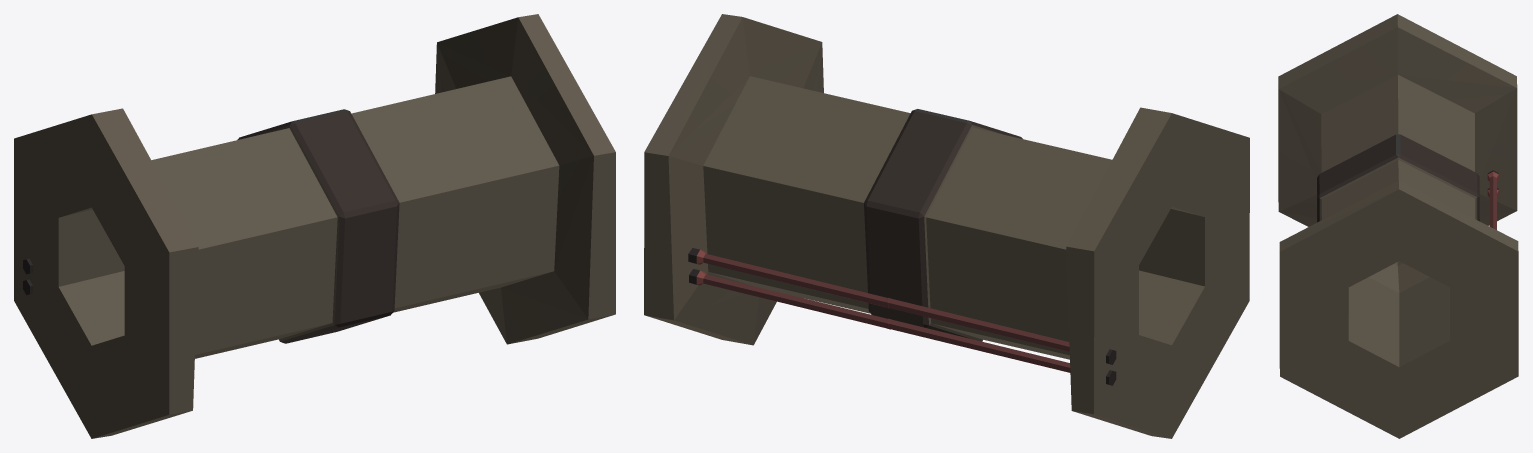
Rendered from pipe-element.gltf.
3 renders of one model, left to right at view 1: azimuth 30°, elevation 25°; view 2: azimuth 150°, elevation 25°; view 3: azimuth 270°, elevation 25°, orthographic. The views are drawn at different scales.
Parts seen in each view (by area): view 1: metalowa.004; view 2: metalowa.004; view 3: metalowa.004.
Boxes of the visible parts, box(x1,y1,x2,y2) form: metalowa.004: box(14, 14, 615, 438); metalowa.004: box(644, 14, 1249, 438); metalowa.004: box(1278, 14, 1518, 438).
Size of the model in its own units: 2.01 by 1.43 by 1.21.
Materials: 1 (1 with a texture image).
